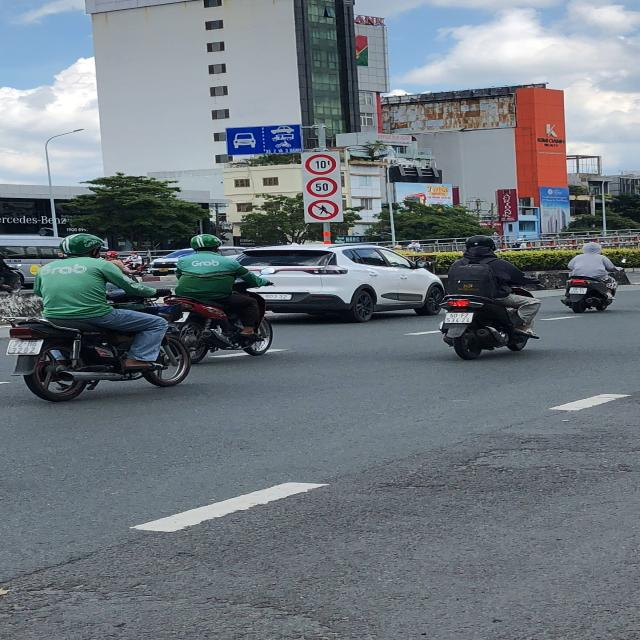Bien bao cam nguoi di bo: (304, 198, 339, 220)
Bien bao toc do toi da cho phep: (303, 177, 341, 198)
